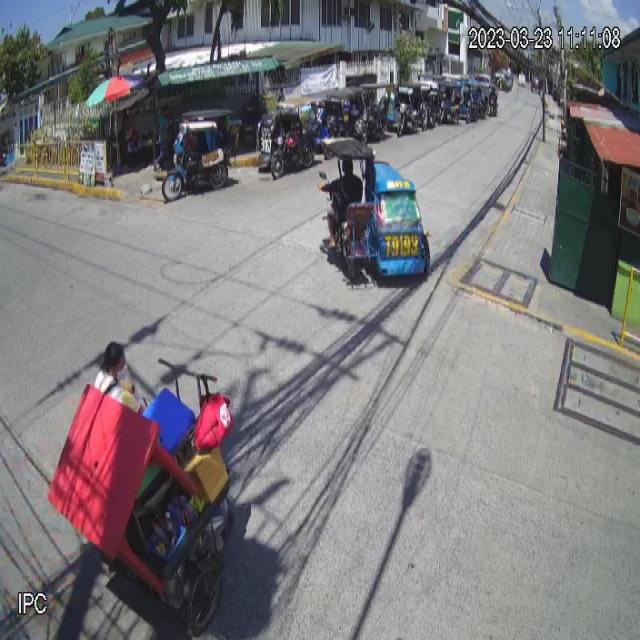Tricycle: (317, 137, 430, 287)
